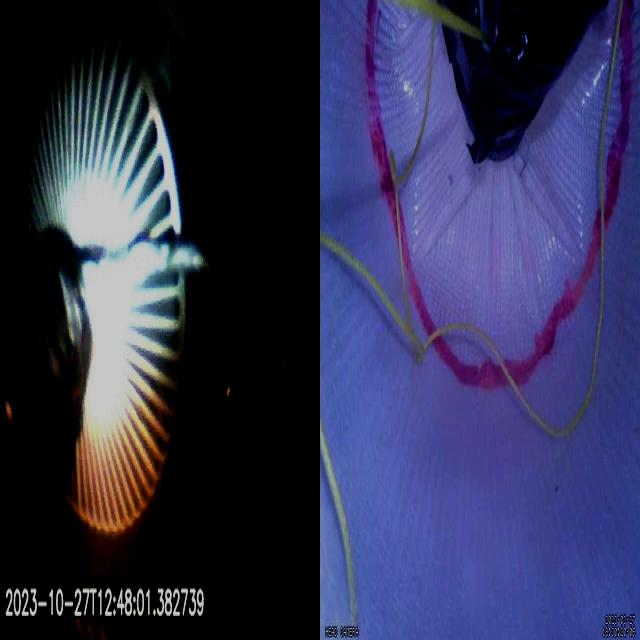red-circle: (365, 2, 634, 386)
